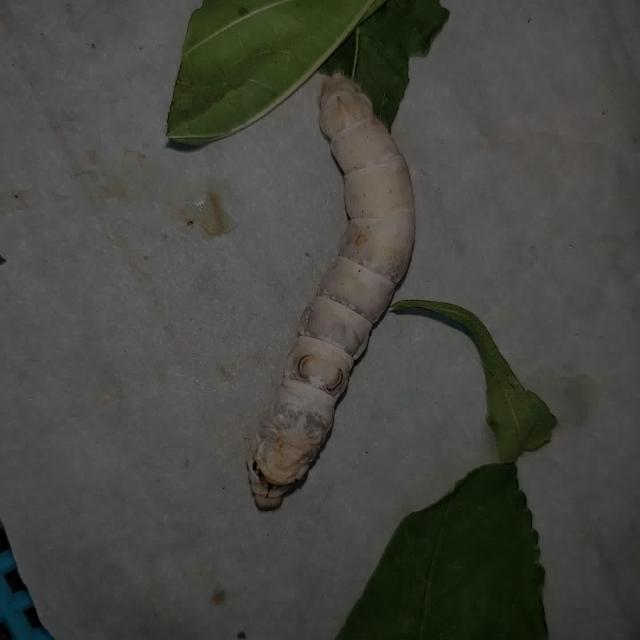Grasserie: (240, 68, 422, 524)
